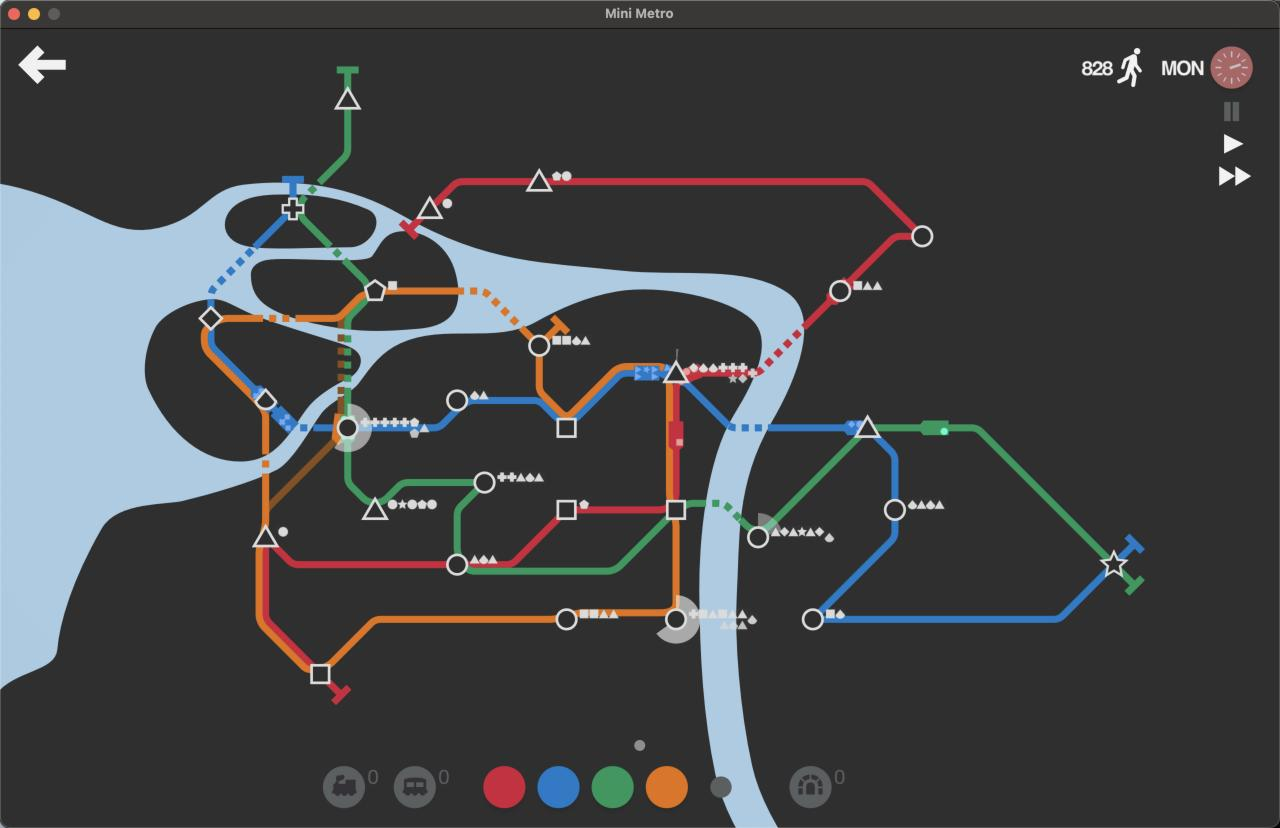CIRCLE: (335, 415, 360, 441), (664, 607, 688, 632), (473, 470, 496, 495), (883, 498, 906, 522), (528, 334, 551, 358), (911, 224, 934, 248), (446, 553, 469, 577), (801, 607, 824, 631), (446, 389, 469, 412), (829, 279, 851, 303), (556, 607, 578, 631), (747, 526, 769, 549)
CROSS: (281, 197, 303, 220)
GEM: (199, 305, 221, 328), (365, 279, 387, 302)
SQUARE: (556, 417, 577, 439), (556, 499, 578, 520), (309, 663, 331, 684), (666, 499, 686, 520)
STAR: (1099, 550, 1130, 578)
TRIANGLE: (416, 194, 445, 221), (853, 414, 883, 439), (361, 495, 389, 521), (663, 358, 689, 385), (525, 167, 552, 193), (334, 86, 362, 111), (252, 525, 280, 549)
WEDGE: (254, 387, 277, 411)
